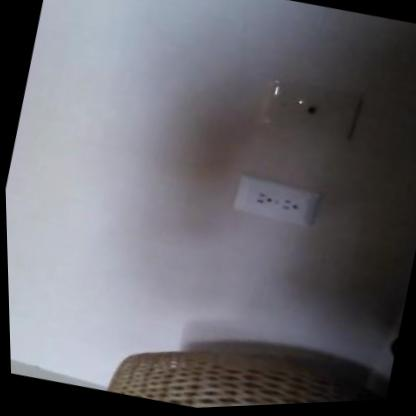OUTLET: (230, 172, 318, 231)
